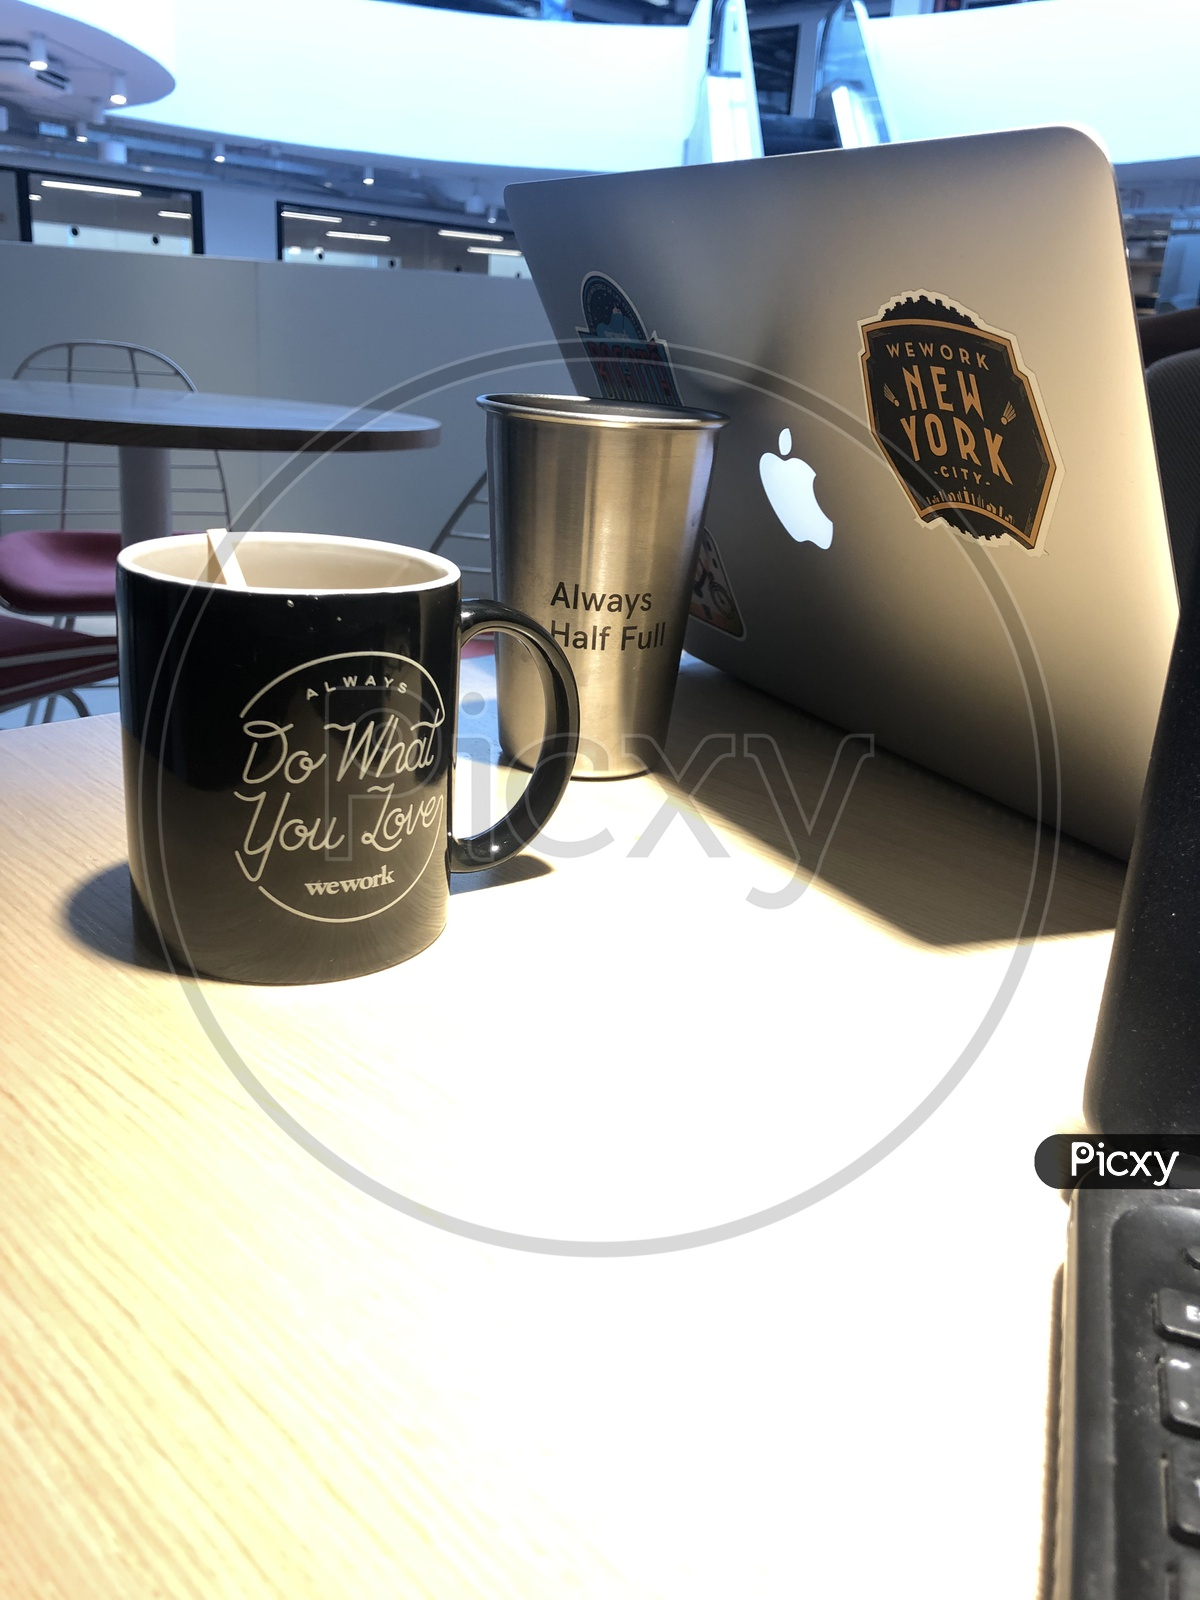wework: (301, 862, 401, 898)
